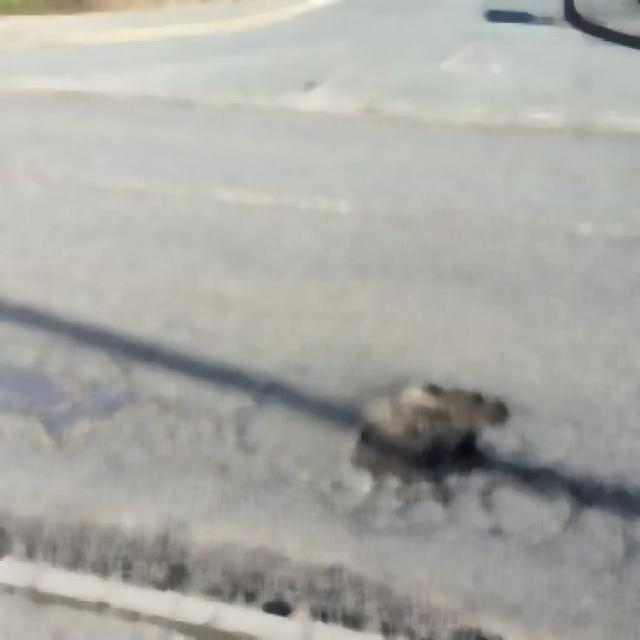Pothole: (362, 353, 508, 499)
